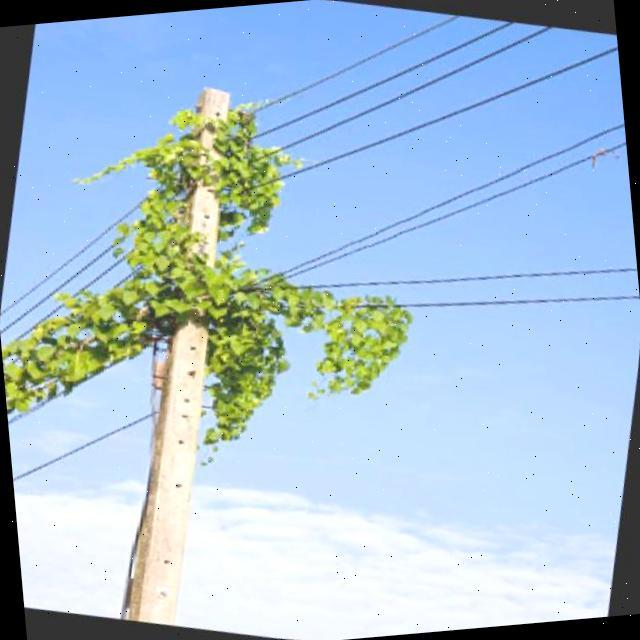critical vegetation: (46, 68, 341, 474)
